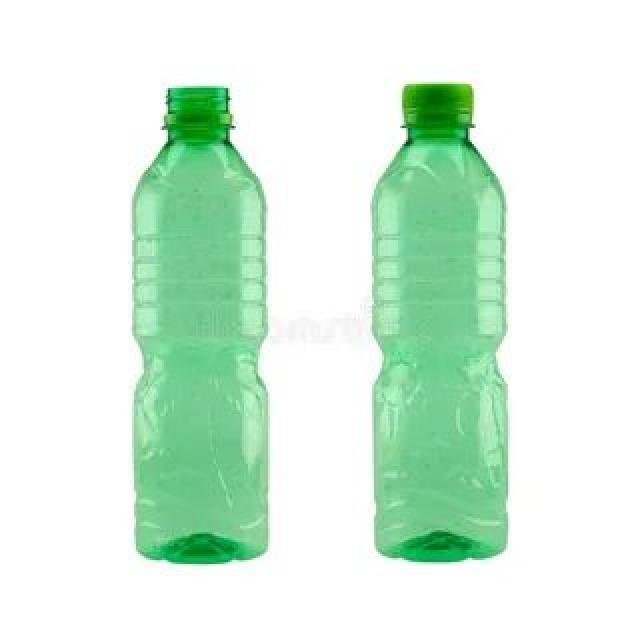green: (132, 83, 266, 565), (370, 118, 507, 560)
